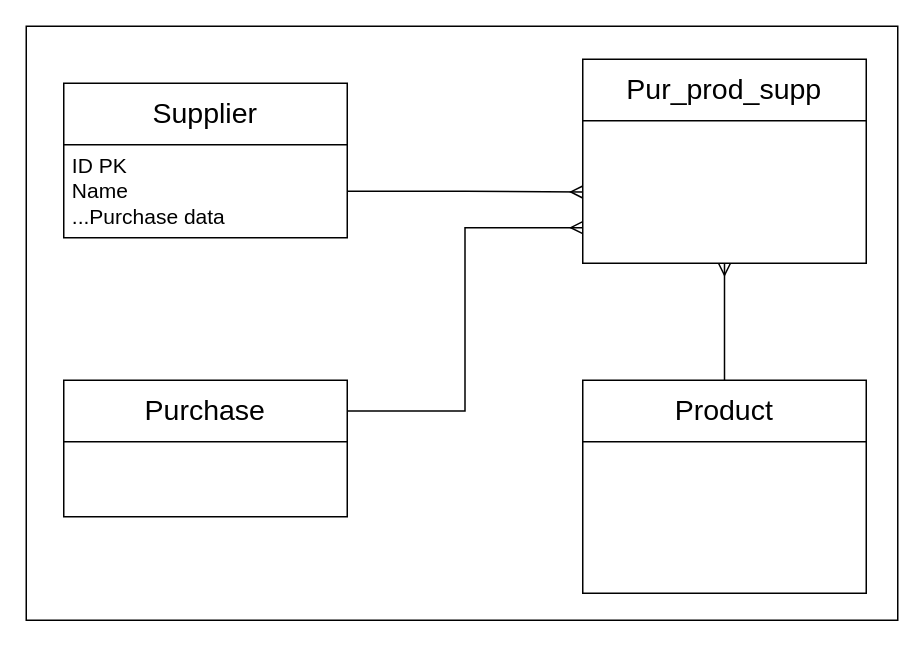
This 924x647 diagram has some shape labels left out. Here are the shapes that lost their labels. From the top down, the centre of each, then its label:
At (x=723, y=191): "ID PK product_id* purchase_id* supplier_id* ...Purchase data".
At (x=204, y=478): "ID PK ...Purchase data".
At (x=723, y=516): "ID PK unite_id* brand_id* category_id* ...Product data".
